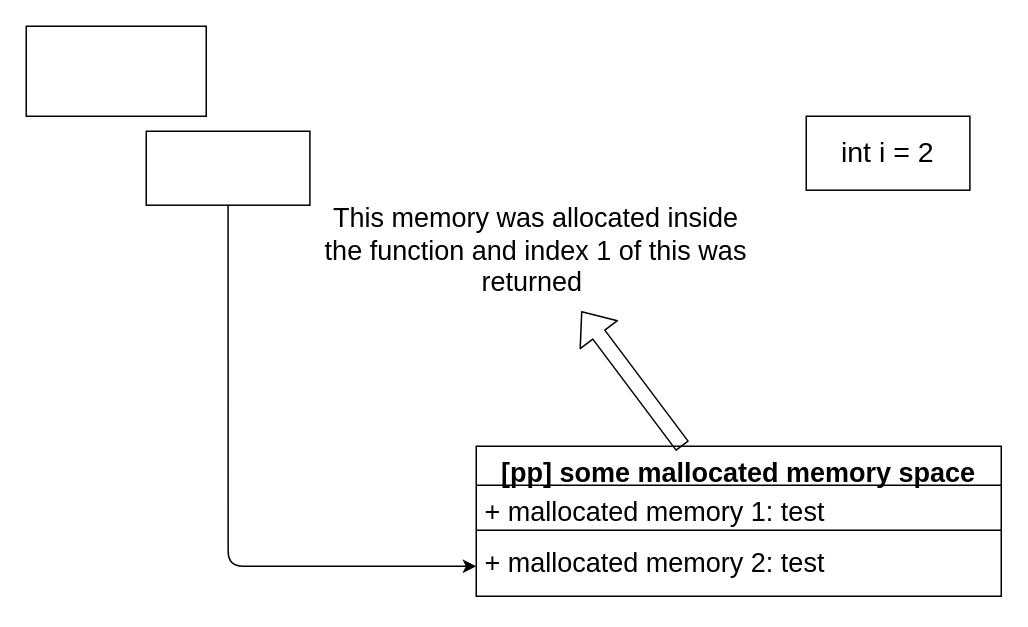
Some shapes in this 1028 by 627 pixel diagram are drawn without their labels. Here are the shapes that lost their labels. From the top down, the centre of each, then its label:
(x=115, y=70): Q4
(x=227, y=167): test *m
